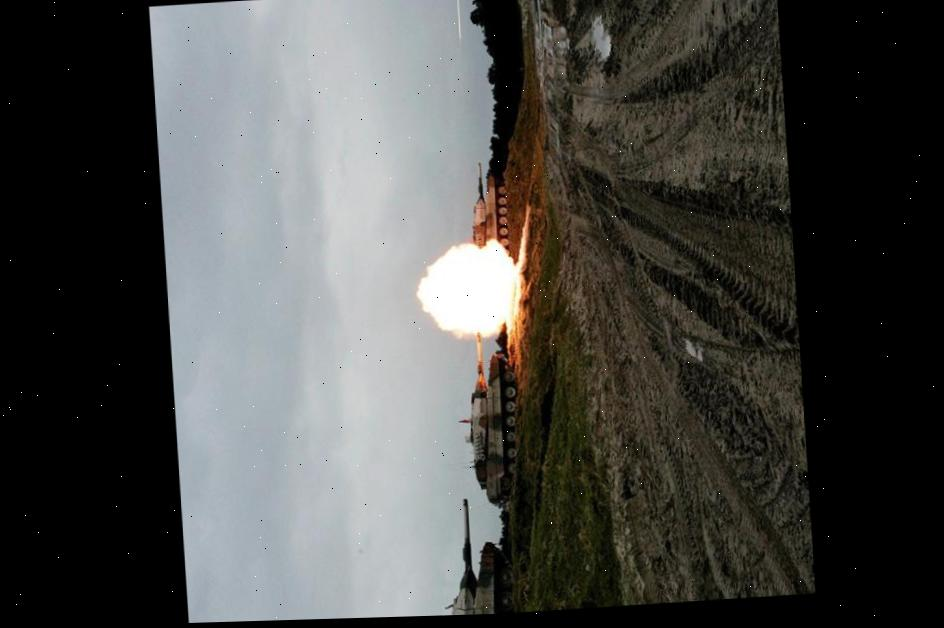tank: (457, 320, 526, 515), (425, 491, 518, 616), (462, 157, 513, 261)
